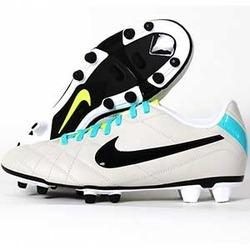nike: (95, 133, 222, 168)
